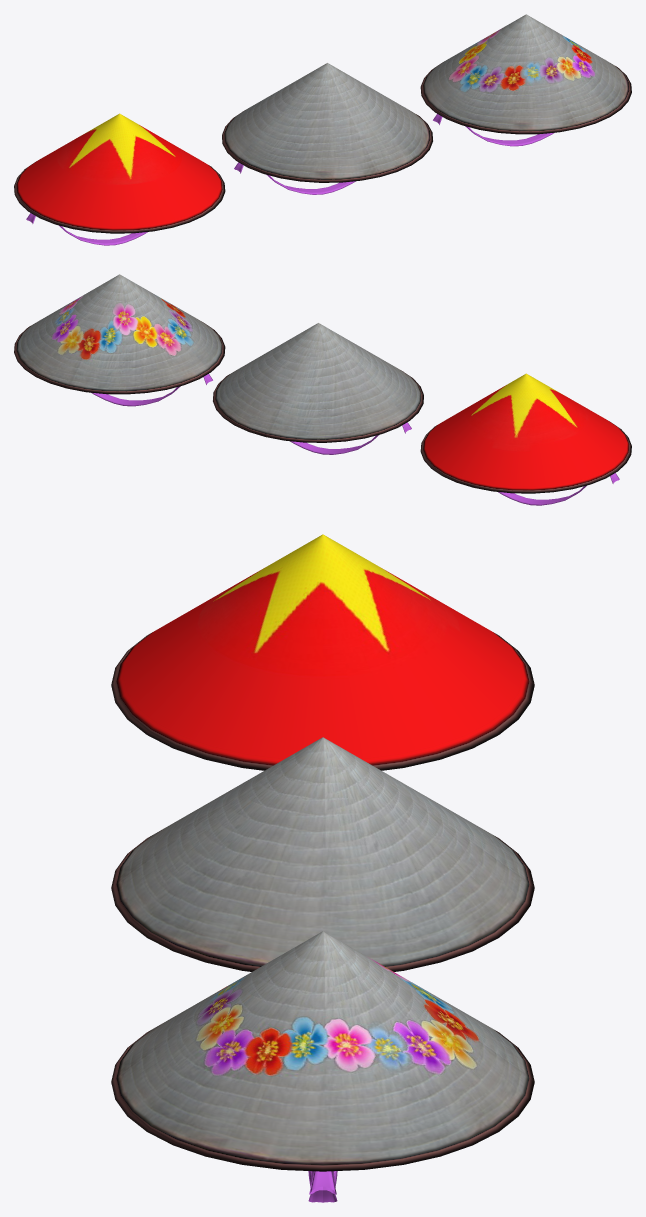
Rendered from Pocolov Non La.fbx.
The picture shows the model from 3 angles, top to bottom: view 1: azimuth 30°, elevation 25°; view 2: azimuth 150°, elevation 25°; view 3: azimuth 270°, elevation 25°; orthographic projection. The views are drawn at different scales.
Parts seen in each view (by area): view 1: Nonla1, Nonla3, Nonla2; view 2: Nonla1, Nonla3, Nonla2; view 3: Nonla3, Nonla1, Nonla2.
Boxes of the visible parts, x1=… form: Nonla1: x1=14, y1=113, x2=225, y2=245; Nonla3: x1=420, y1=14, x2=631, y2=146; Nonla2: x1=222, y1=63, x2=432, y2=194; Nonla1: x1=420, y1=373, x2=631, y2=505; Nonla3: x1=14, y1=274, x2=225, y2=406; Nonla2: x1=213, y1=323, x2=423, y2=454; Nonla3: x1=111, y1=931, x2=534, y2=1202; Nonla1: x1=111, y1=534, x2=534, y2=770; Nonla2: x1=111, y1=737, x2=534, y2=971.
Size of the model in its own units: 63.32 by 13.16 by 19.68.
Materials: 4 (3 with a texture image).
